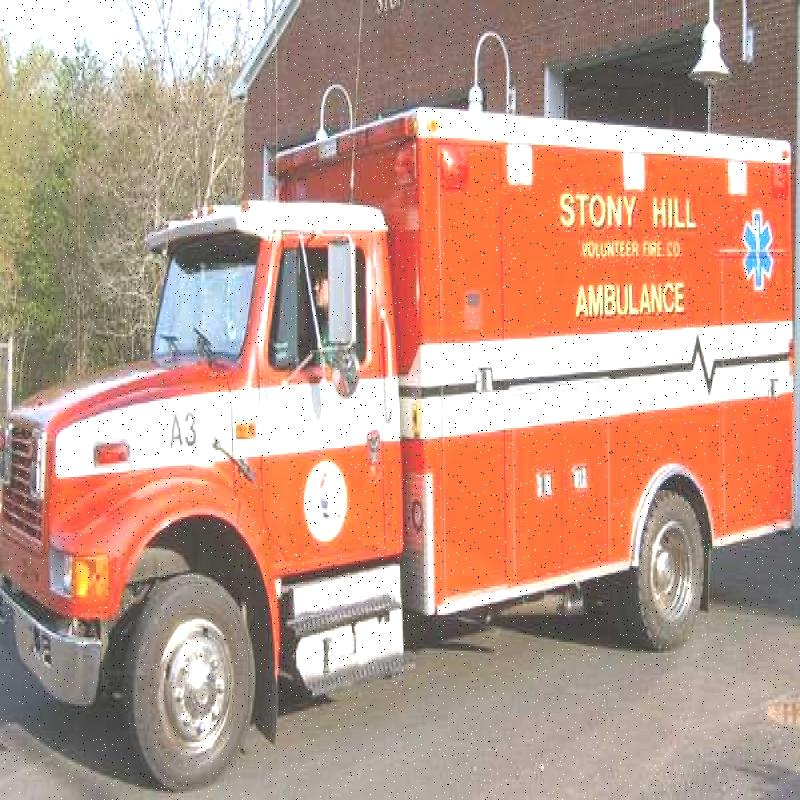AmbulanceSiren: (264, 98, 430, 190)
